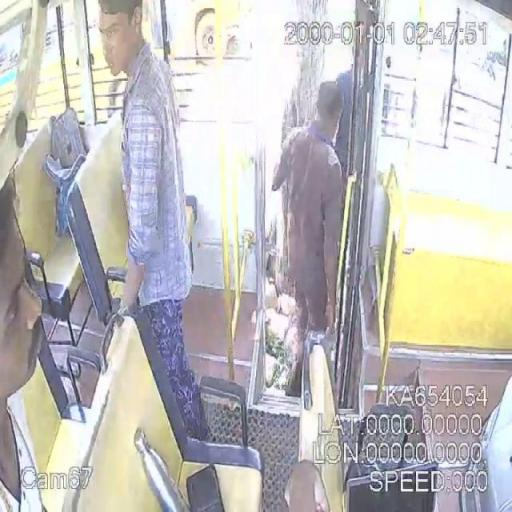persona: (96, 0, 207, 440), (270, 80, 346, 398), (0, 169, 48, 511)
